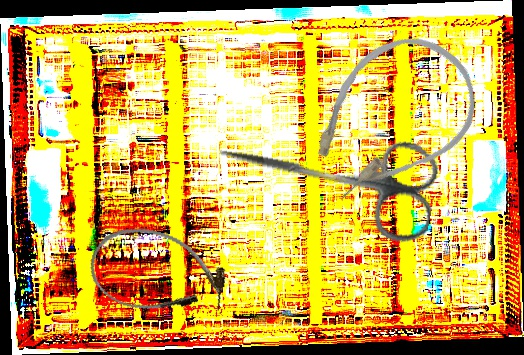Cannula: (279, 10, 501, 227), (82, 217, 234, 329)
Iris Scissors: (209, 106, 444, 247)
